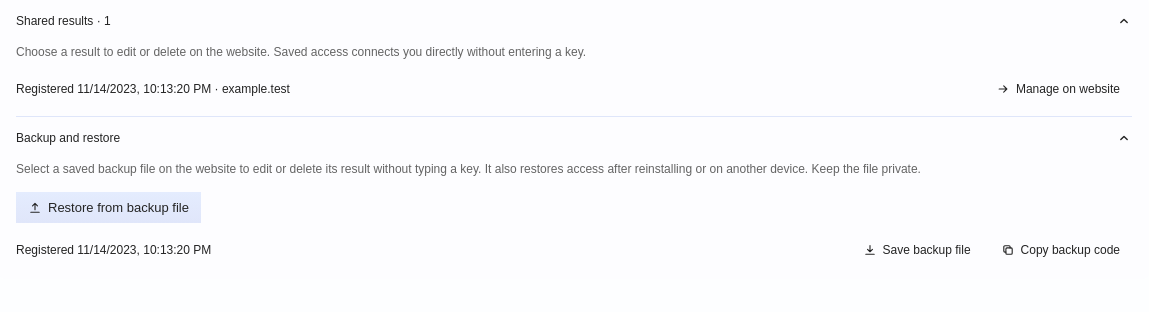
Test case: owned recovery list › explains a locked vault when saving a backup in en
Click the button "Save backup file". click: (917, 250)
box: [850,235,983,265]
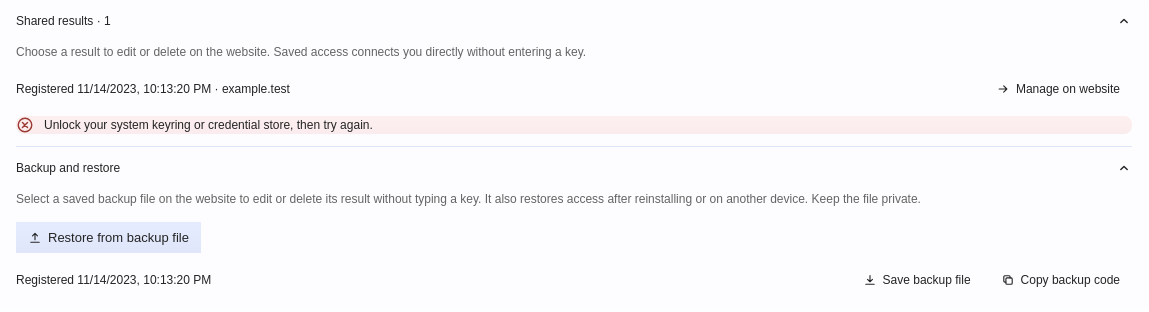
Expected: the button "Save backup file" is enabled, [850,265,983,295]
Now the message reads "Unlock your system keyring or credential store, then try again.", box [44,118,373,132]
